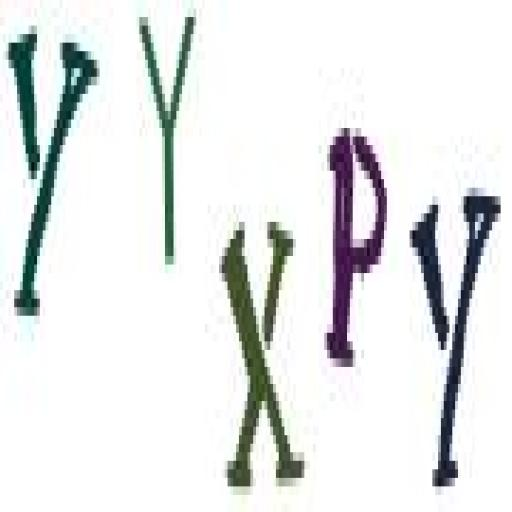P: (324, 119, 392, 390)
X: (212, 196, 310, 508)
Y: (409, 175, 510, 511), (2, 13, 104, 342), (132, 0, 200, 276)
